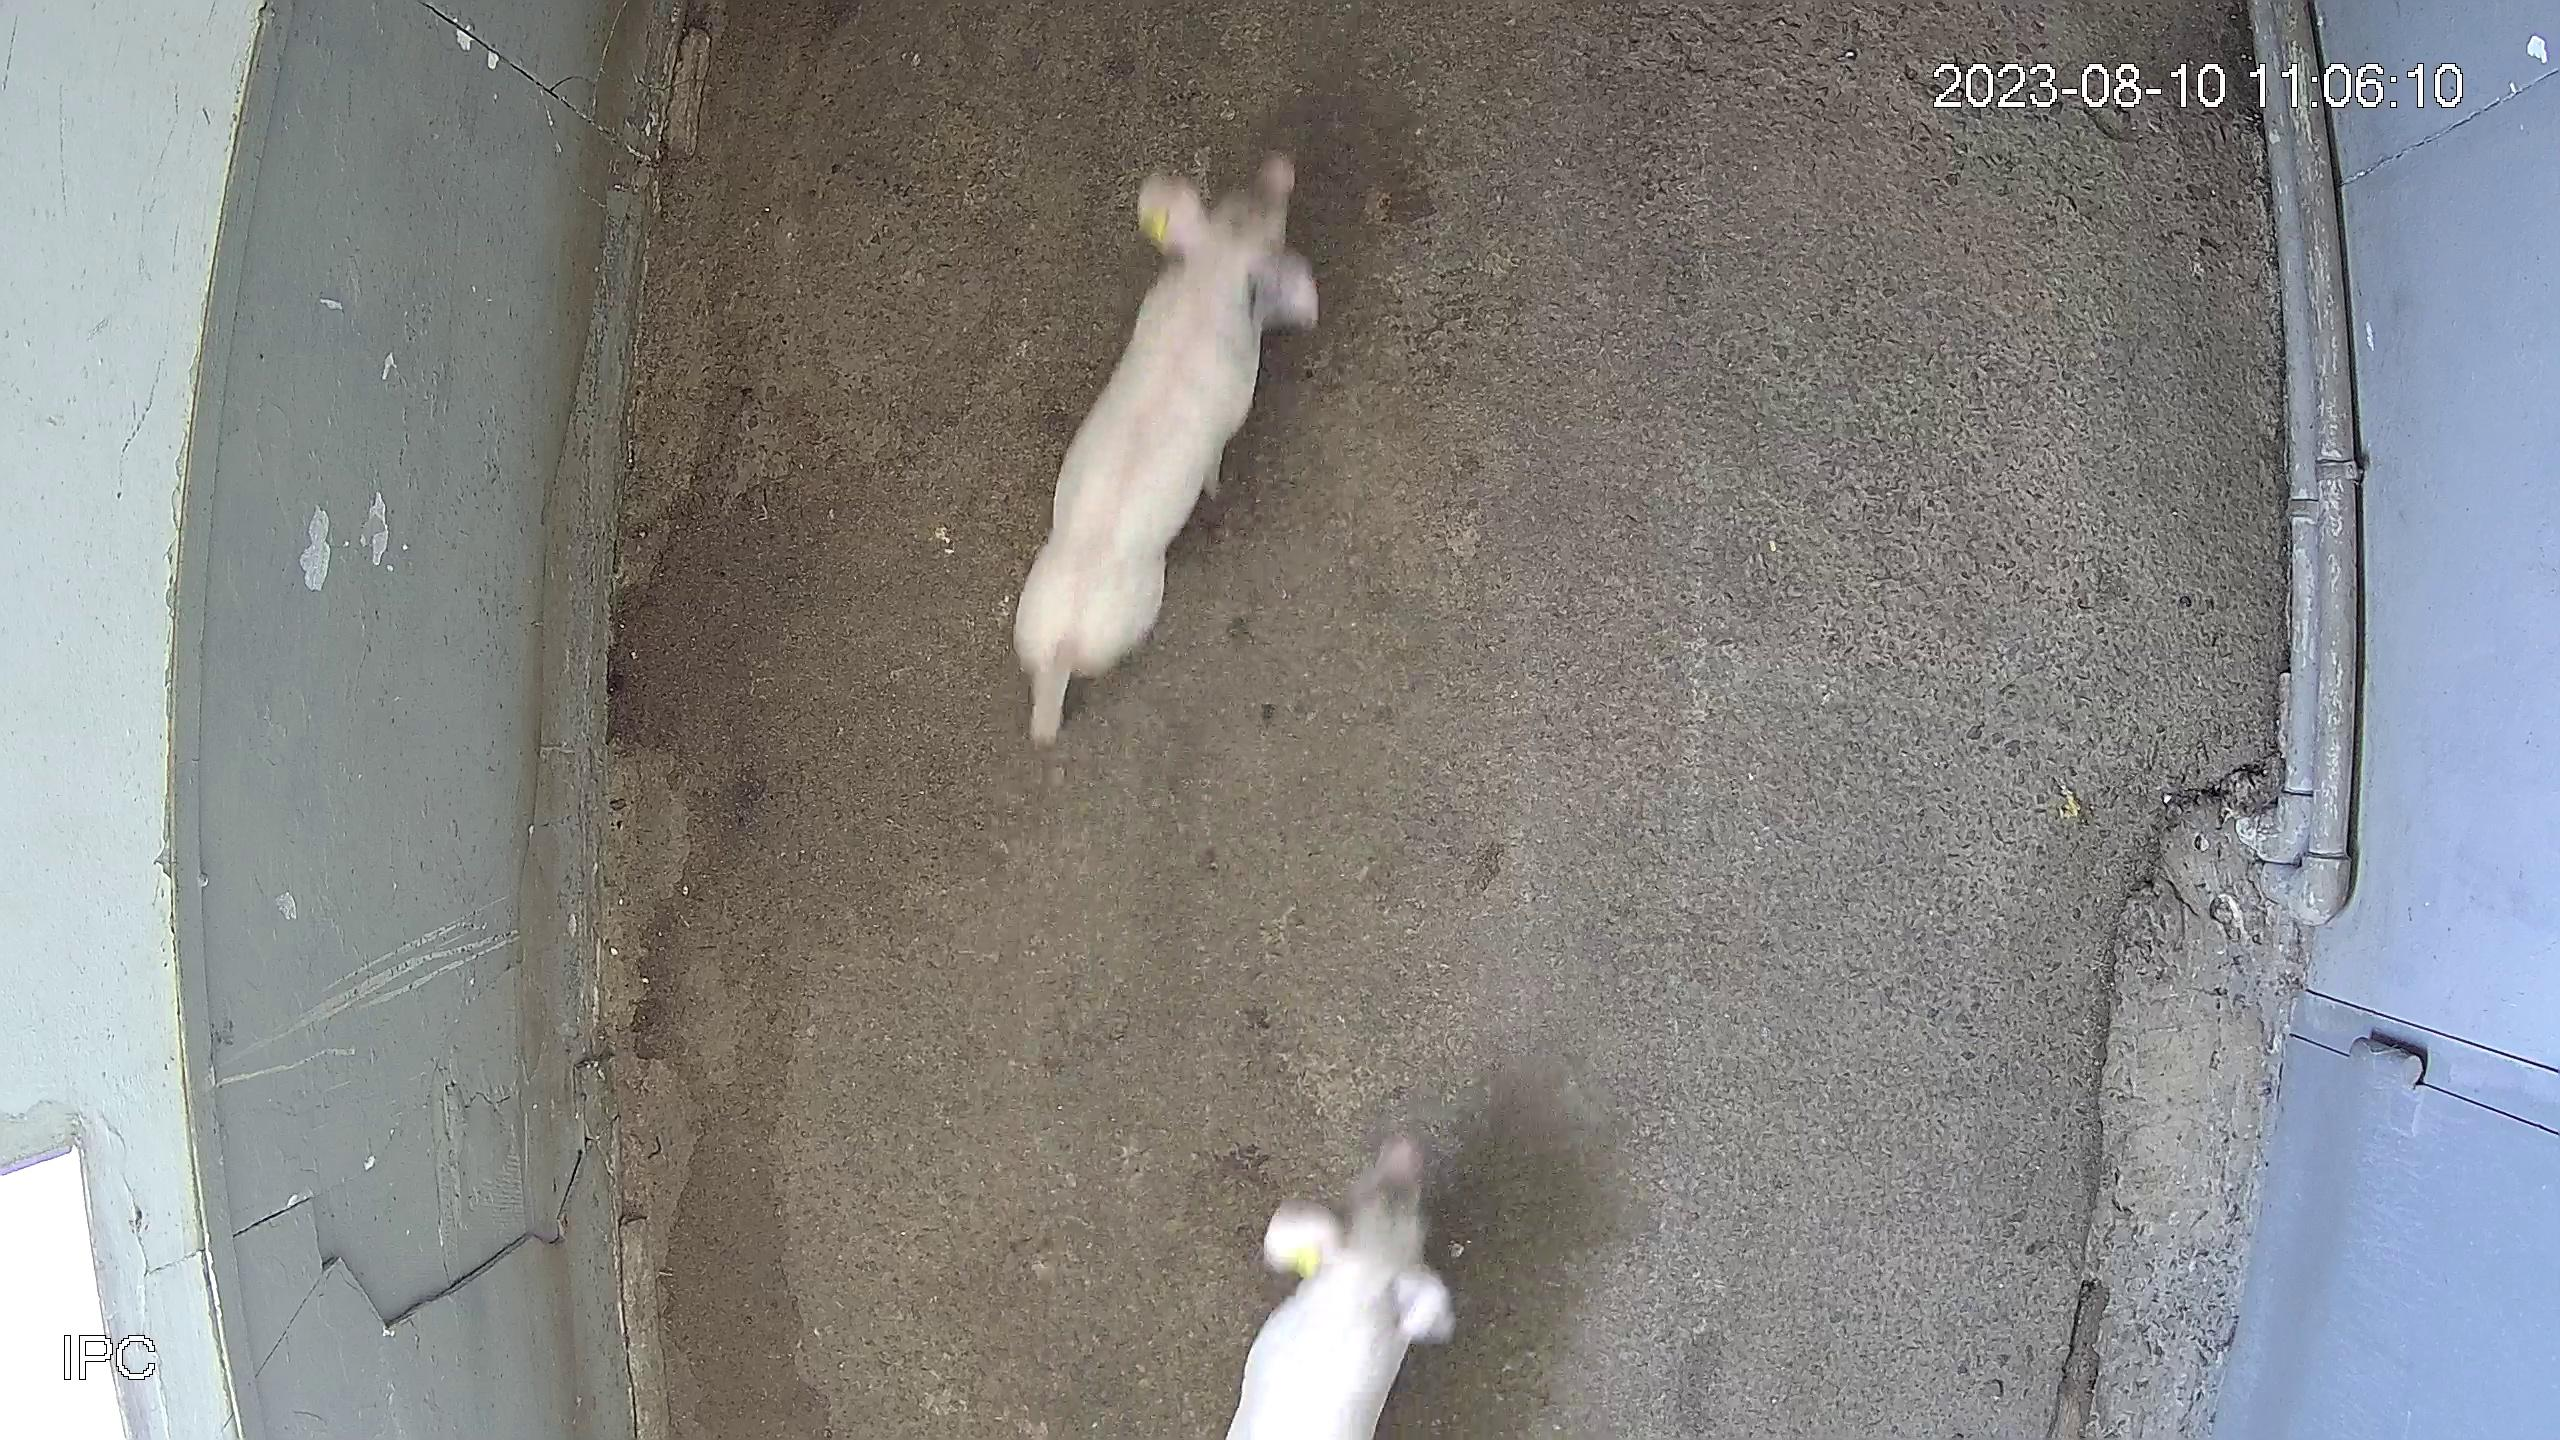Pig: (1016, 151, 1319, 744), (1227, 1138, 1456, 1440)
